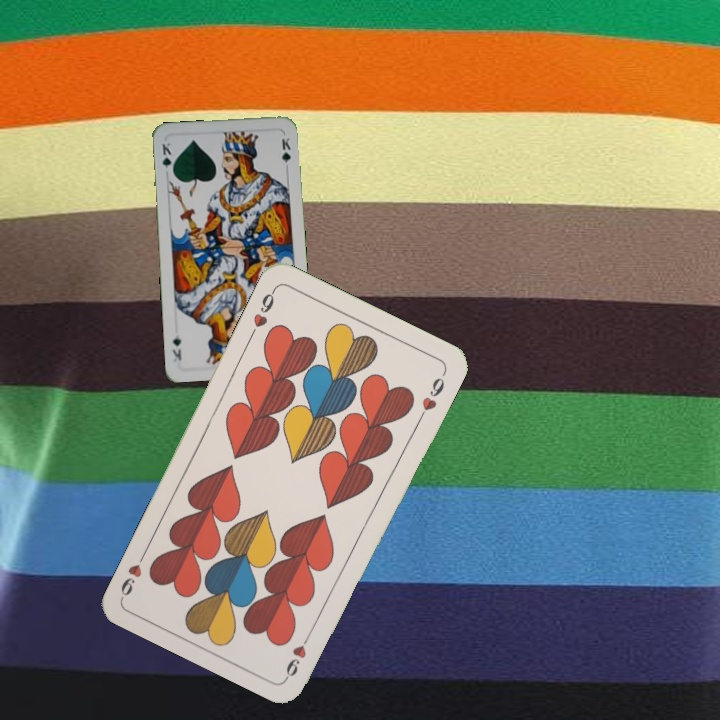GK: (158, 138, 176, 177)
H9: (281, 626, 316, 680), (246, 284, 279, 339)
